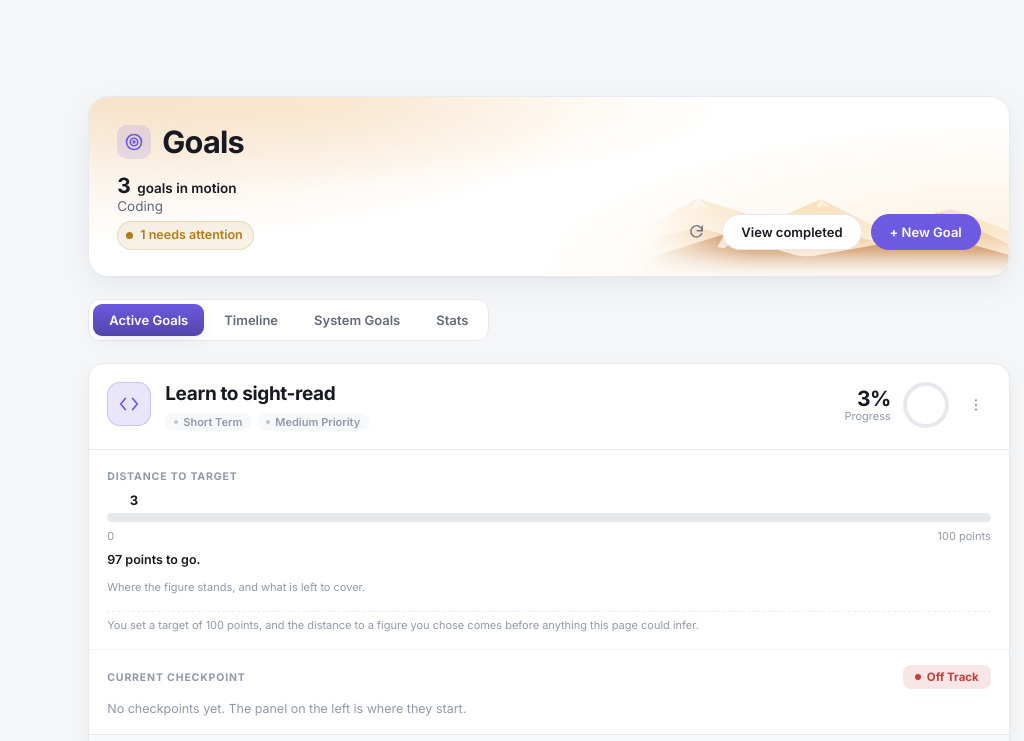
Test case: the per-goal diagnosis › prints the score the diagnosis explains
Click the tab "Stats".
click(452, 320)  # box [420, 304, 484, 336]
(page scrolled)
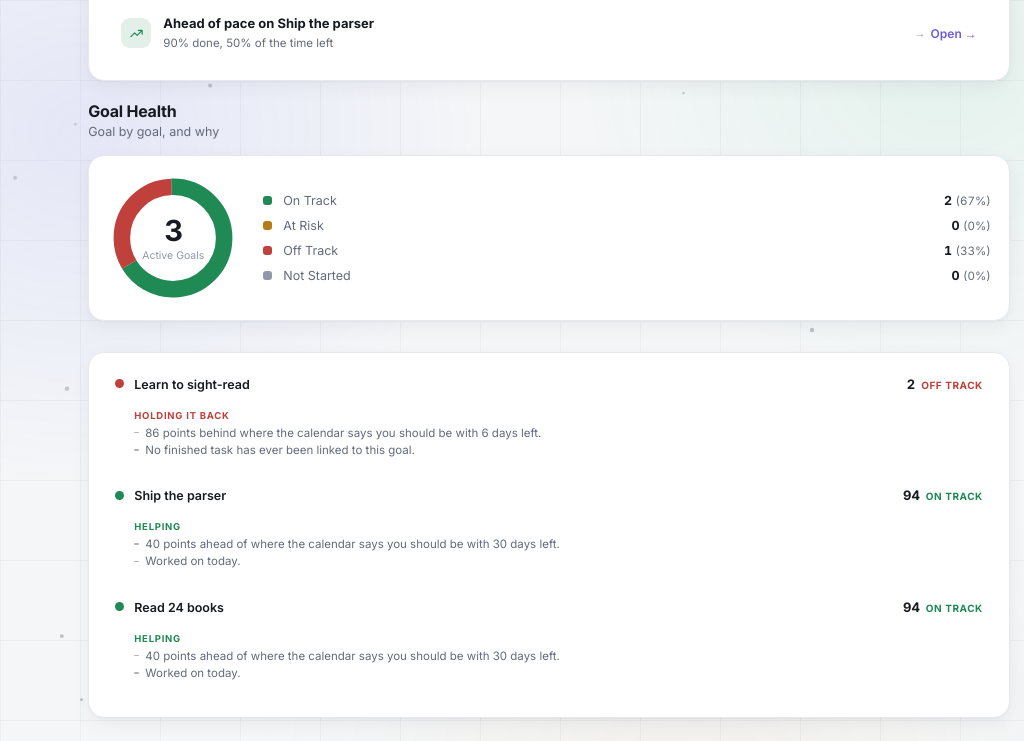
Check: the 2nd text "Off Track" is shown, box [921, 379, 983, 391]
